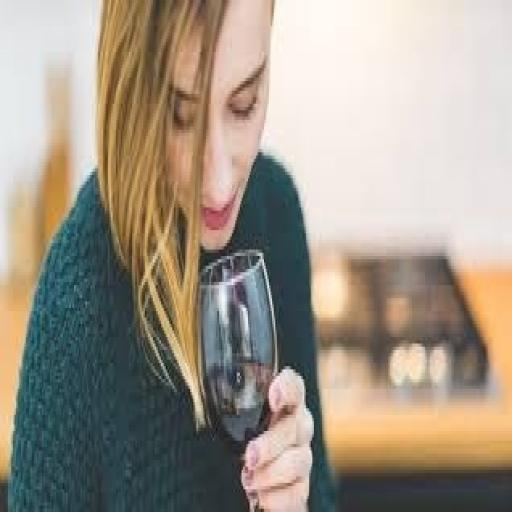drinking: (196, 246, 278, 509)
